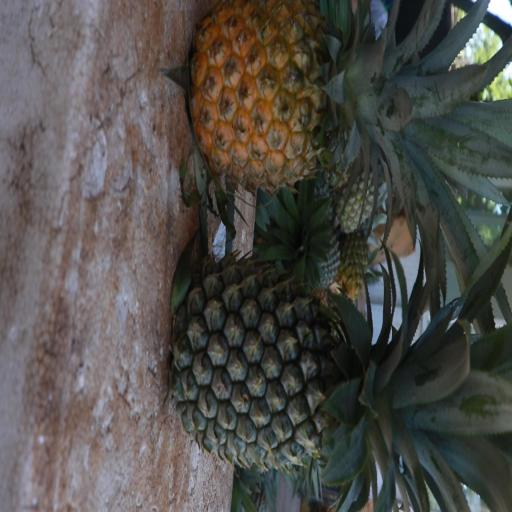Pineapple - v8 v1: (198, 9, 480, 184)
